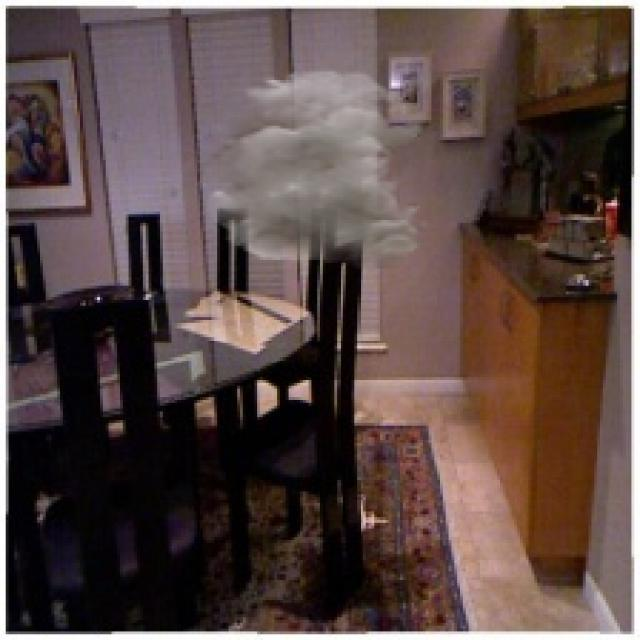Smoke: (177, 68, 432, 272)
